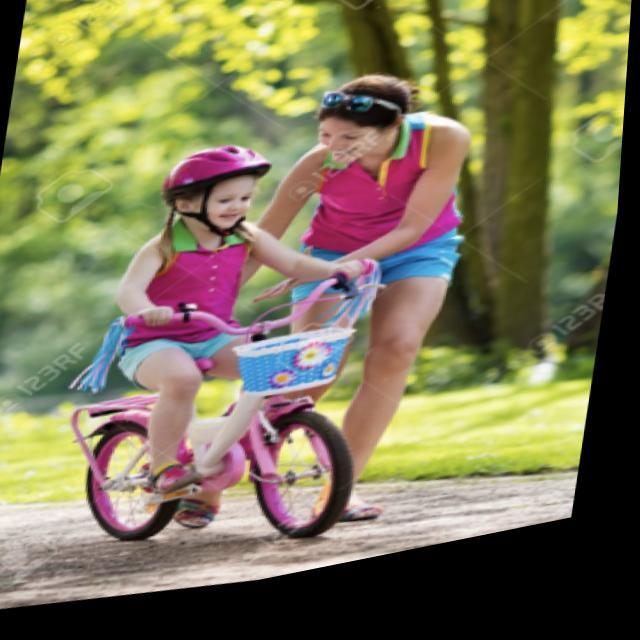Helmet: (158, 142, 273, 242)
Nonhelmet: (314, 72, 419, 169)
